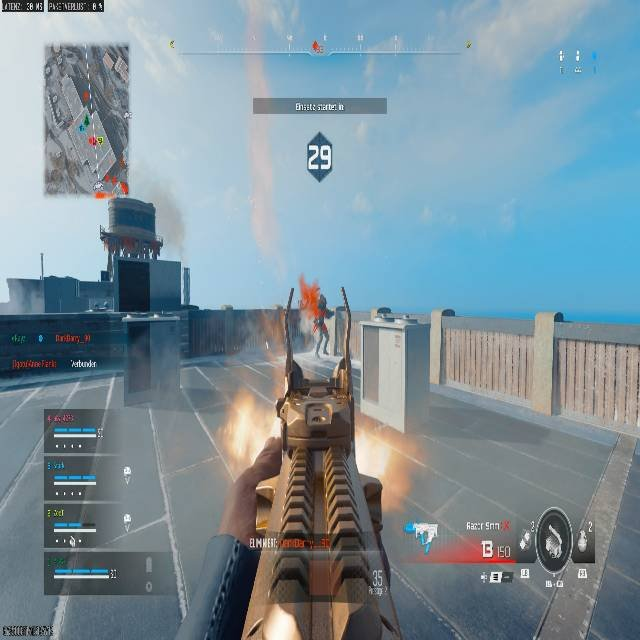player: (312, 290, 332, 356)
